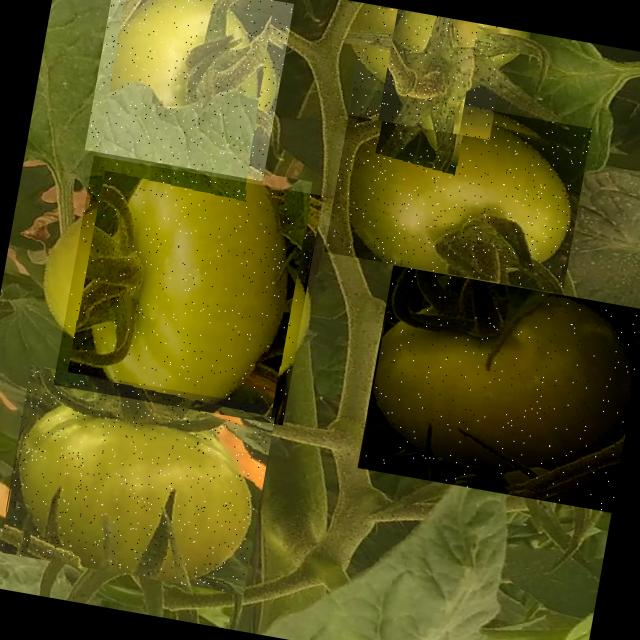Unripe Tomato: (52, 155, 322, 425), (357, 264, 640, 512), (0, 364, 276, 595), (324, 86, 592, 294), (84, 0, 293, 181), (346, 4, 508, 140)
